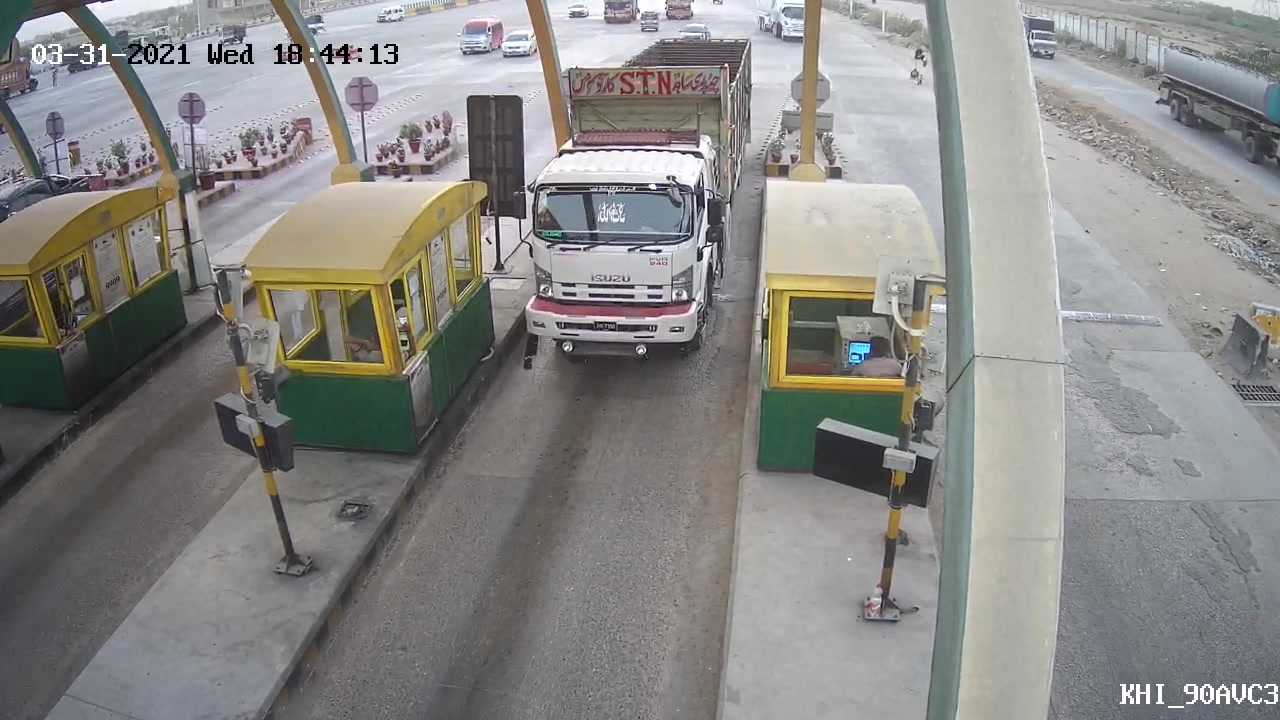F6: (510, 29, 760, 370)
